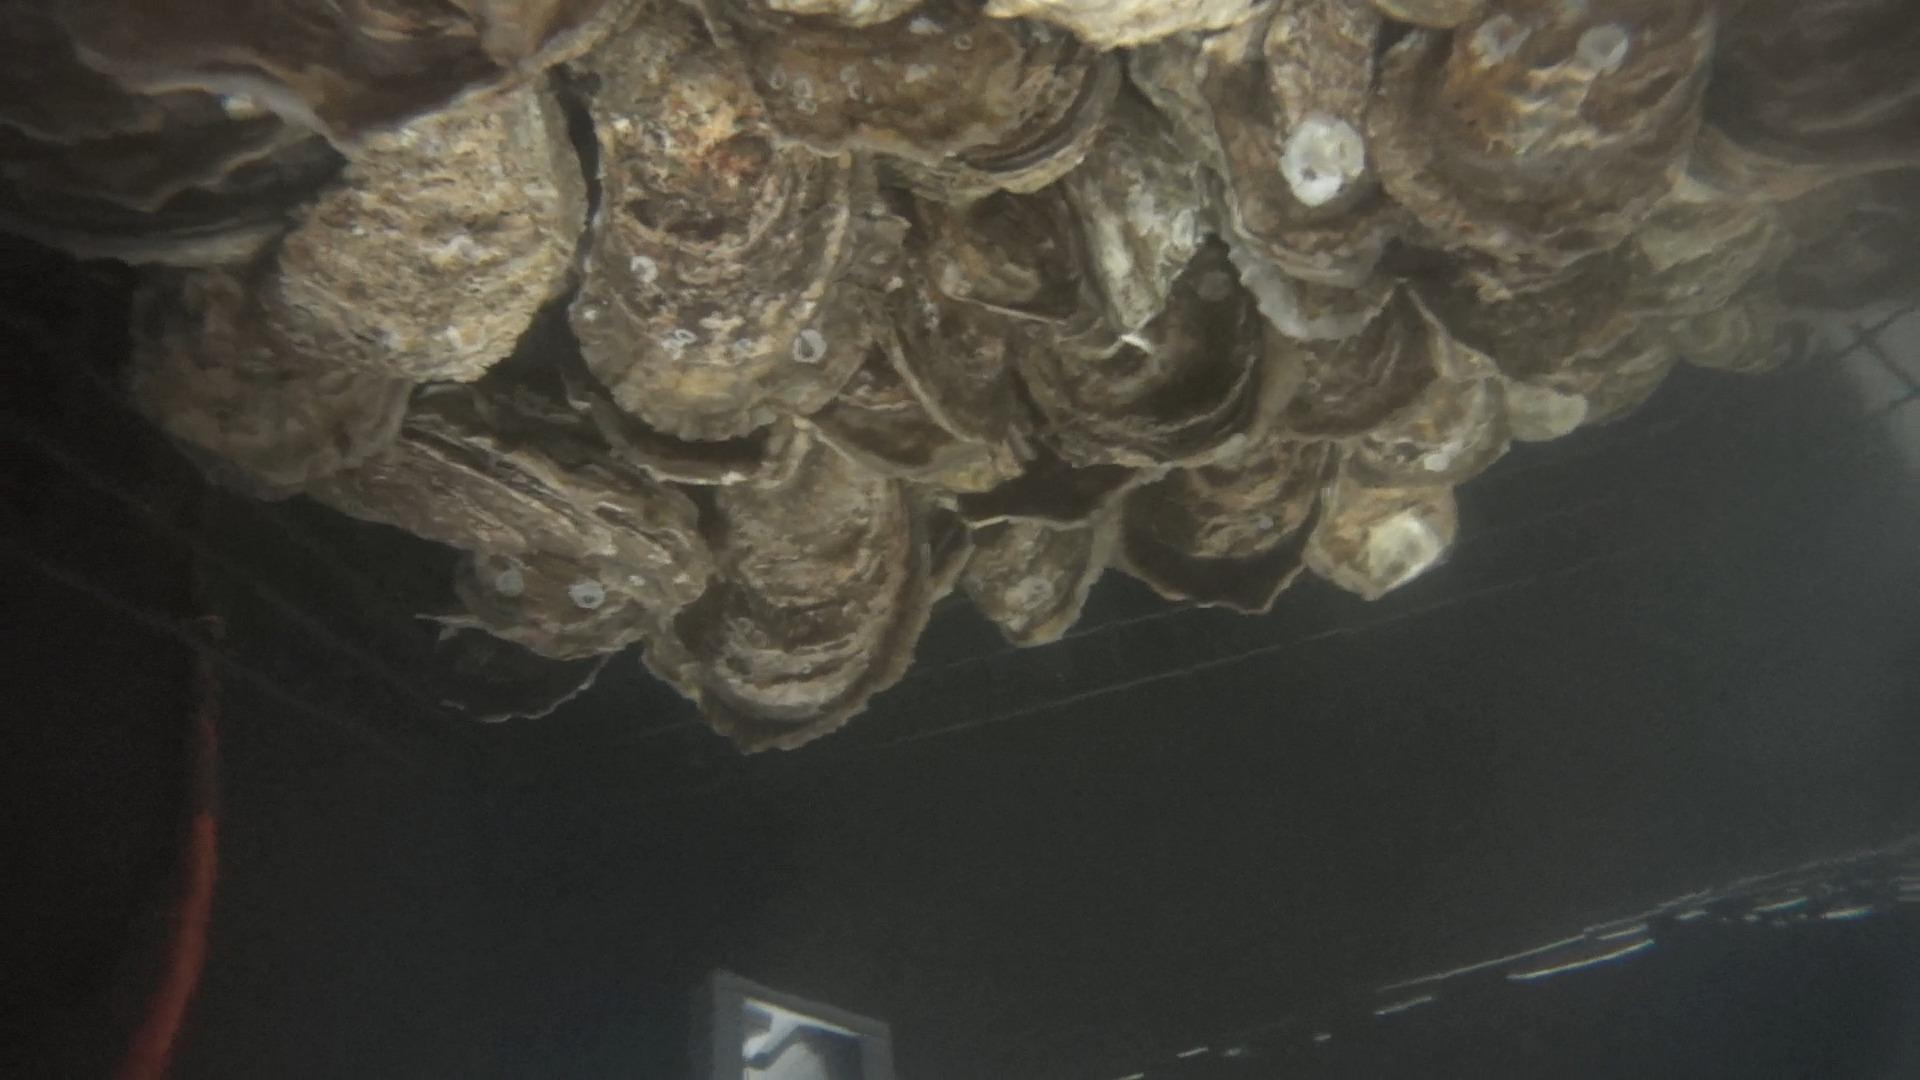3: (628, 419, 936, 749), (36, 0, 657, 162), (301, 356, 696, 592), (1131, 0, 1399, 338), (0, 1, 342, 265), (744, 3, 1124, 194), (989, 232, 1261, 451), (1371, 66, 1600, 319), (1085, 458, 1302, 625), (887, 243, 1025, 444), (911, 199, 1091, 323), (1284, 290, 1437, 435), (952, 520, 1098, 647), (1348, 373, 1509, 484)
Oyster-Closed: (276, 88, 603, 381), (1076, 120, 1204, 327)
Oyster-Open: (1592, 0, 1920, 454), (558, 22, 895, 440), (138, 268, 410, 493), (454, 545, 665, 662), (1509, 18, 1600, 240), (1305, 471, 1460, 599)
